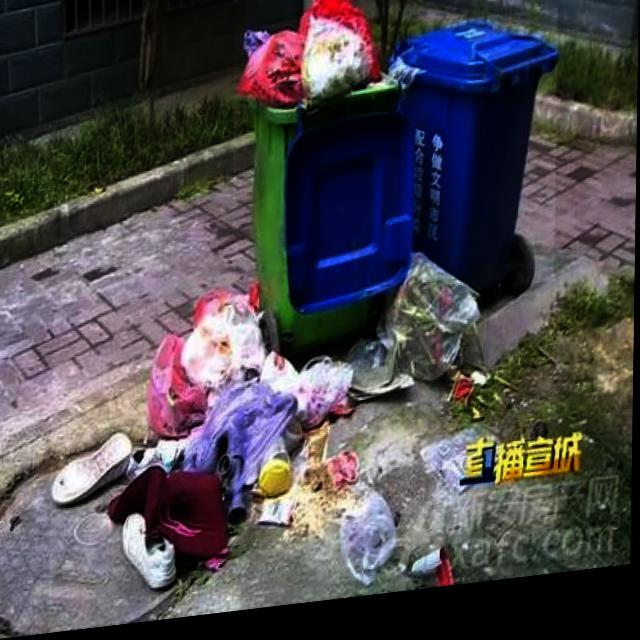garbage: (50, 251, 489, 633)
garbage_bin: (391, 22, 558, 310)
overflow: (231, 0, 404, 365)
